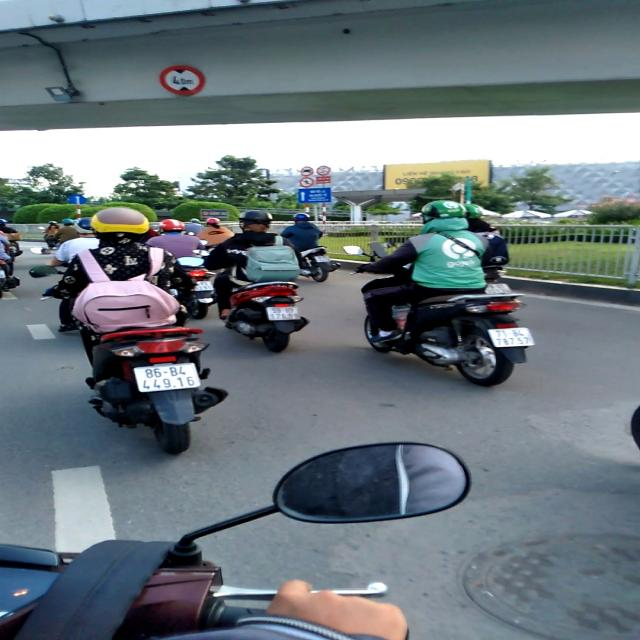P.117: (159, 65, 205, 95)
